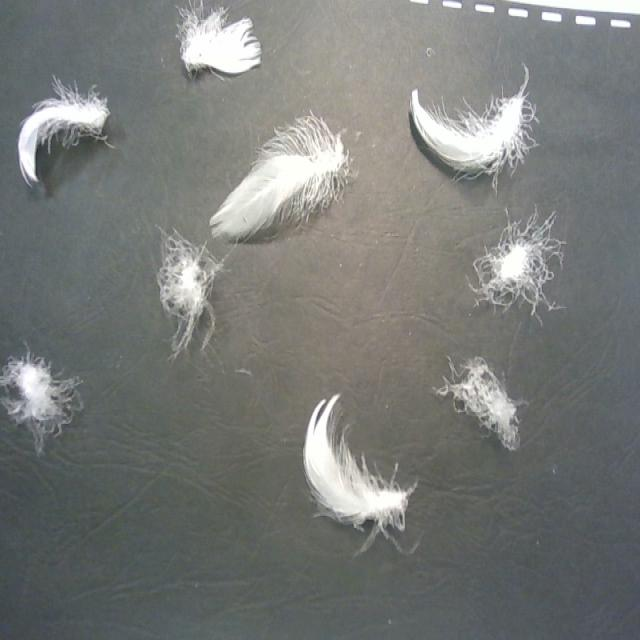feather: (211, 112, 351, 245), (303, 391, 414, 552), (407, 63, 537, 185), (14, 78, 111, 194), (470, 212, 564, 315), (0, 348, 86, 448), (154, 227, 219, 351), (441, 357, 522, 448), (171, 0, 265, 76)
